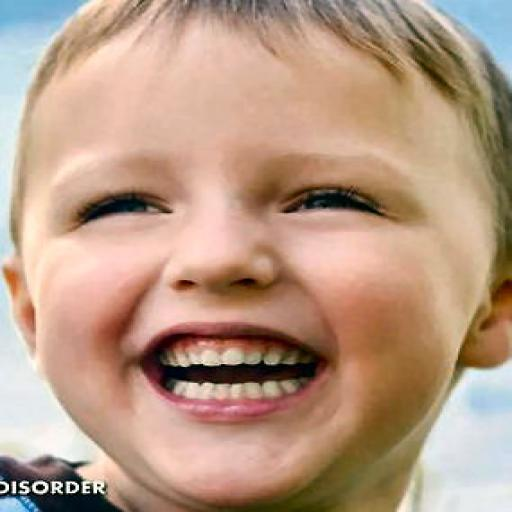Autism: (22, 5, 457, 512)
